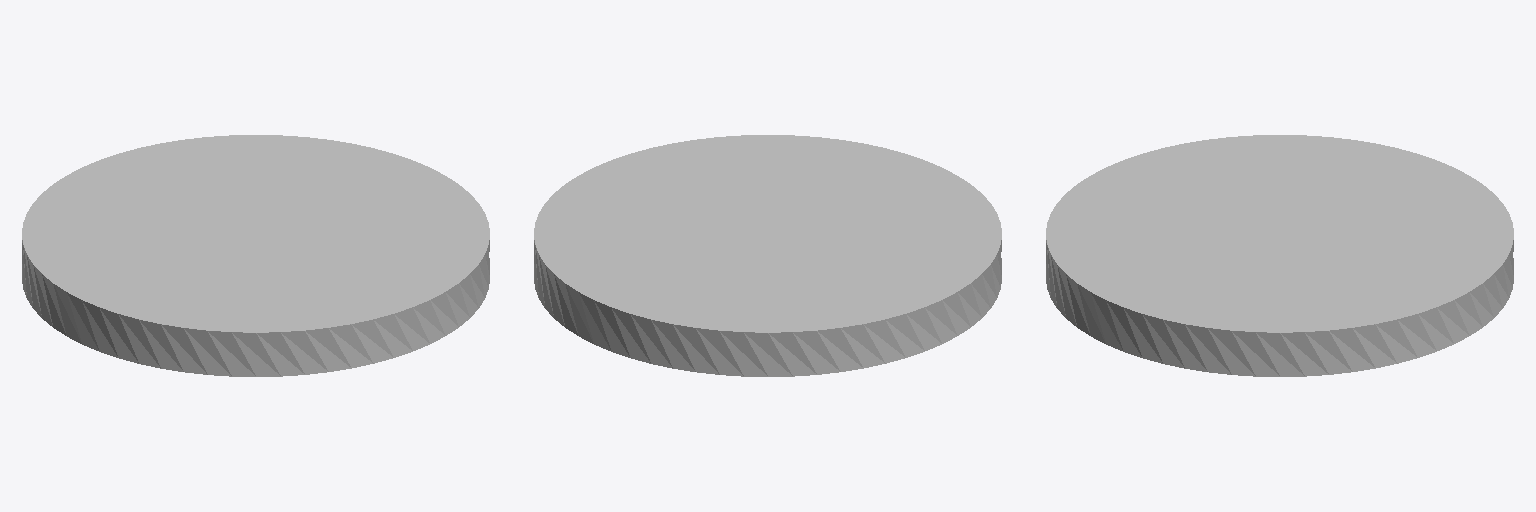
Rendered from cap-samp.obj.
The picture shows the model from 3 angles: view 1: azimuth 30°, elevation 25°; view 2: azimuth 150°, elevation 25°; view 3: azimuth 270°, elevation 25°; orthographic projection.
Parts seen in each view (by area): view 1: J_cap_Cylinder.001; view 2: J_cap_Cylinder.001; view 3: J_cap_Cylinder.001.
Part boxes in pixels (bbox=[...]): J_cap_Cylinder.001: bbox=[22, 135, 489, 376]; J_cap_Cylinder.001: bbox=[534, 135, 1001, 376]; J_cap_Cylinder.001: bbox=[1046, 135, 1513, 376].
Bounding box in the file's own units: 2 × 0.2093 × 2.